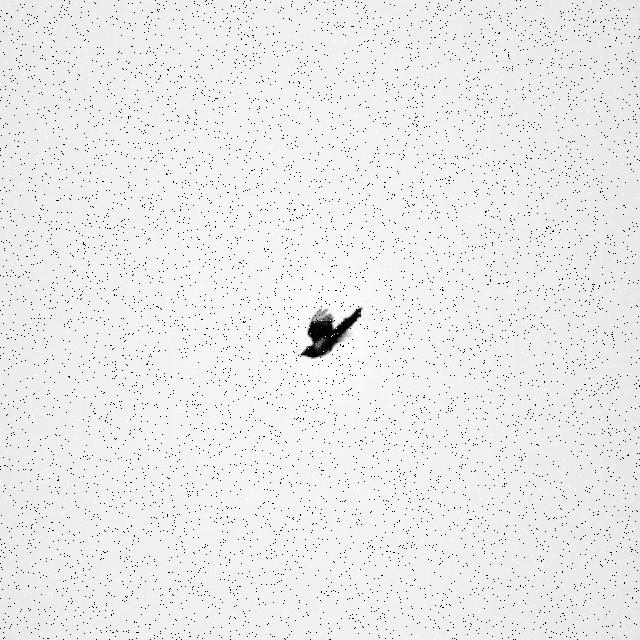bird: (300, 306, 362, 359)
